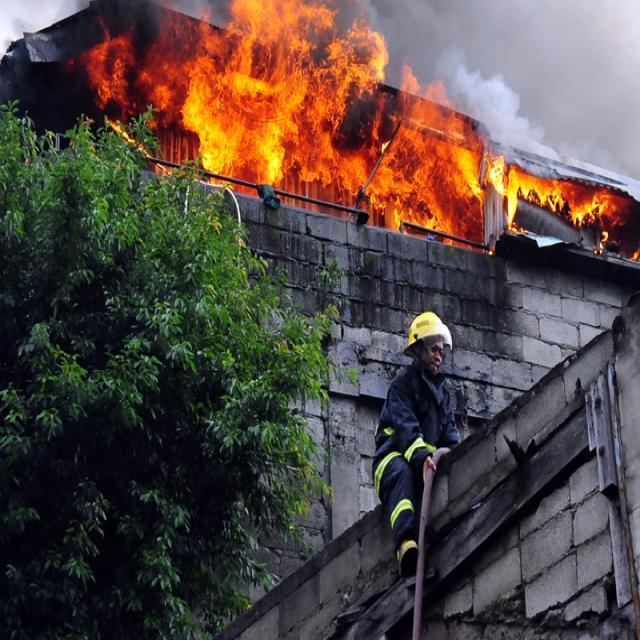Fire: (186, 1, 484, 246), (80, 0, 188, 133), (490, 156, 634, 242)
Smoke: (448, 0, 640, 160)
